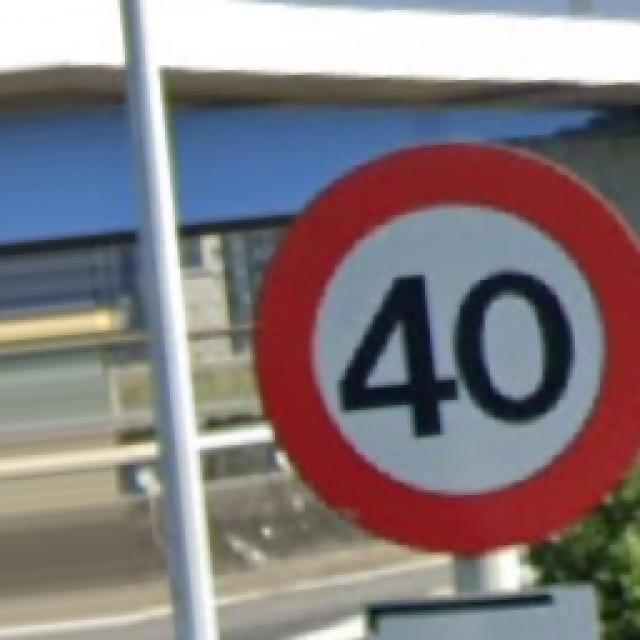Speed Limit -40-: (258, 142, 638, 550)
